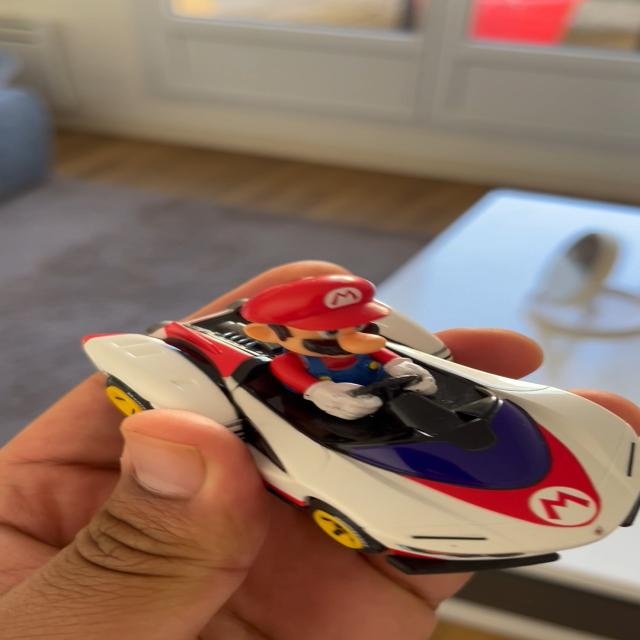mario: (81, 265, 640, 575)
